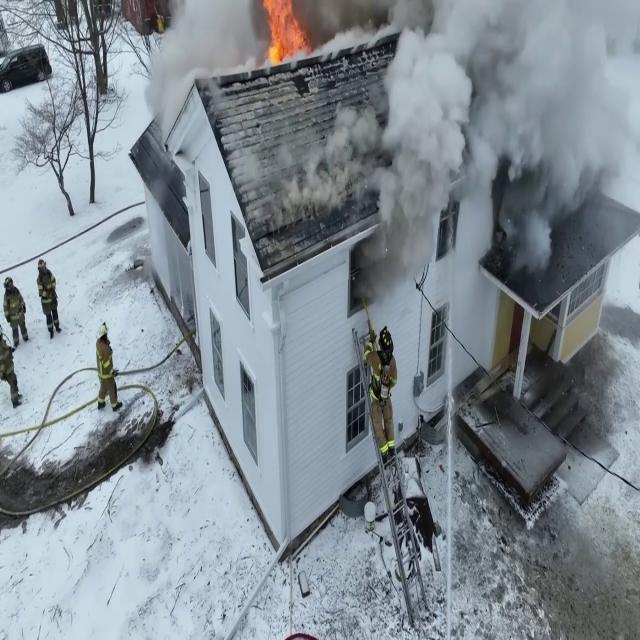Fire: (256, 0, 306, 68)
Smoke: (362, 0, 640, 298)
